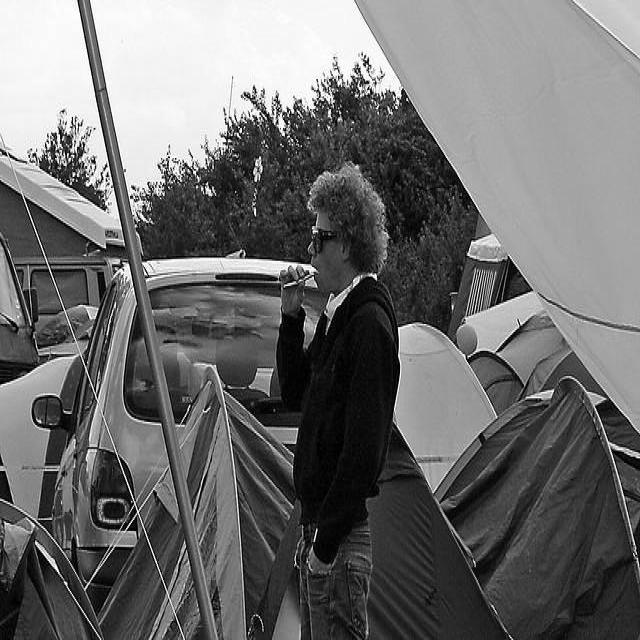vehicle: (29, 256, 327, 614), (0, 225, 83, 537)
